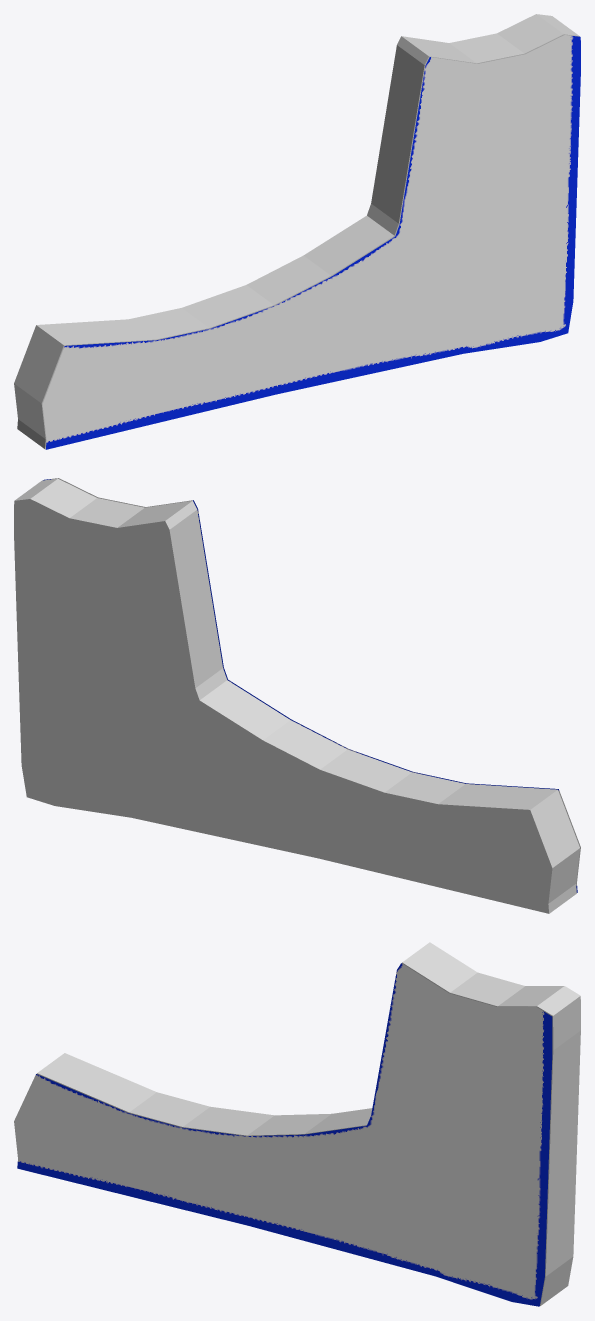
3 renders of one model, top to bottom at view 1: azimuth 30°, elevation 25°; view 2: azimuth 150°, elevation 25°; view 3: azimuth 330°, elevation 25°, orthographic.
Visible parts, largest first — view 1: Out_2_1, Out_2_0; view 2: Out_2_0, Out_2_1; view 3: Out_2_1, Out_2_0.
Boxes of the visible parts, bbox=[...] form: Out_2_1: bbox=[42, 35, 580, 449]; Out_2_0: bbox=[14, 14, 579, 449]; Out_2_0: bbox=[14, 478, 579, 913]; Out_2_1: bbox=[43, 478, 580, 892]; Out_2_1: bbox=[14, 963, 552, 1306]; Out_2_0: bbox=[37, 942, 580, 1305].
Size of the model in its own units: 5.61 by 3.11 by 0.515.
Materials: 2 (1 with a texture image).
